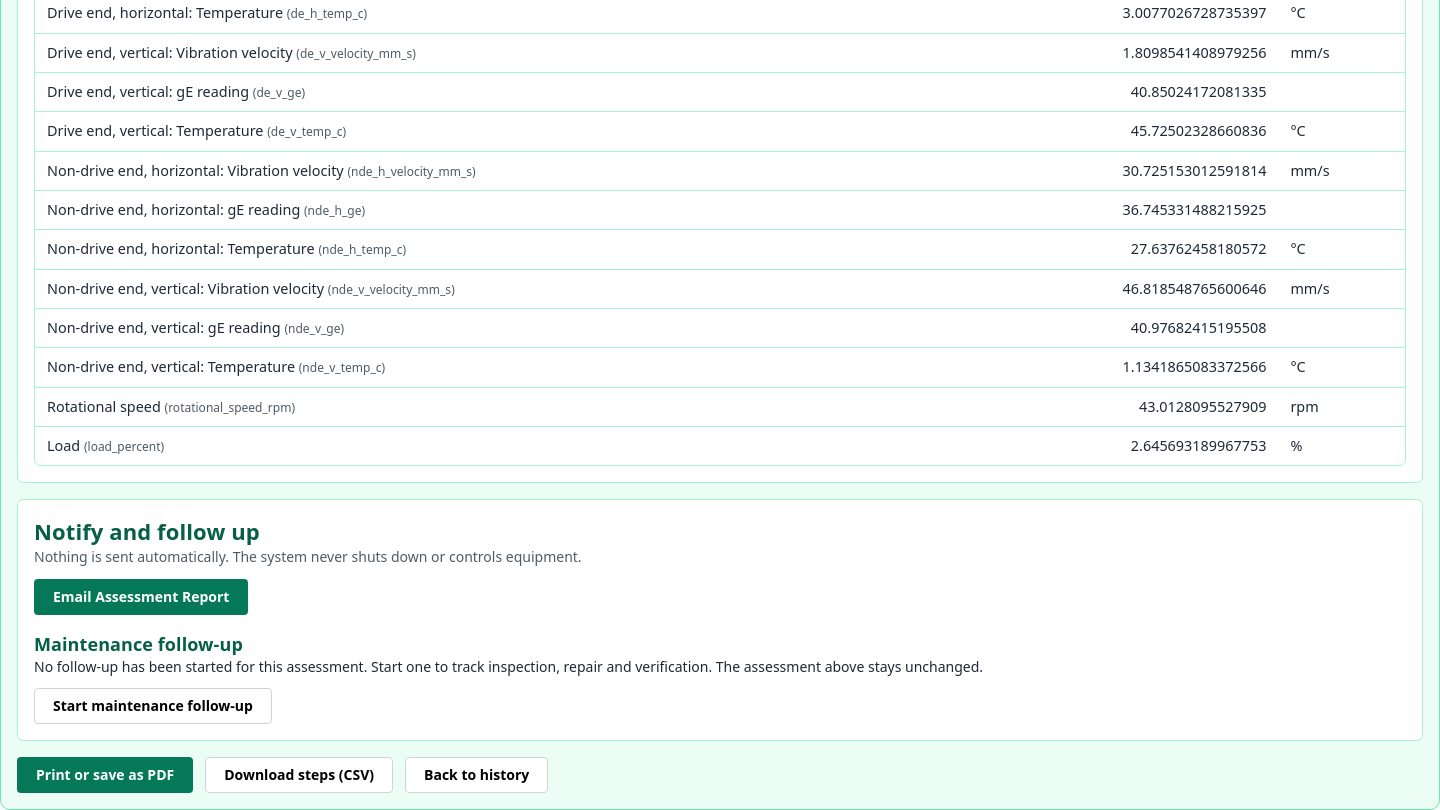
it: Email dialog › reports a failure as a failure and never as sent
(page scrolled)
Click the button "Email Assessment Report" at (141, 597), box [34,579,248,615]
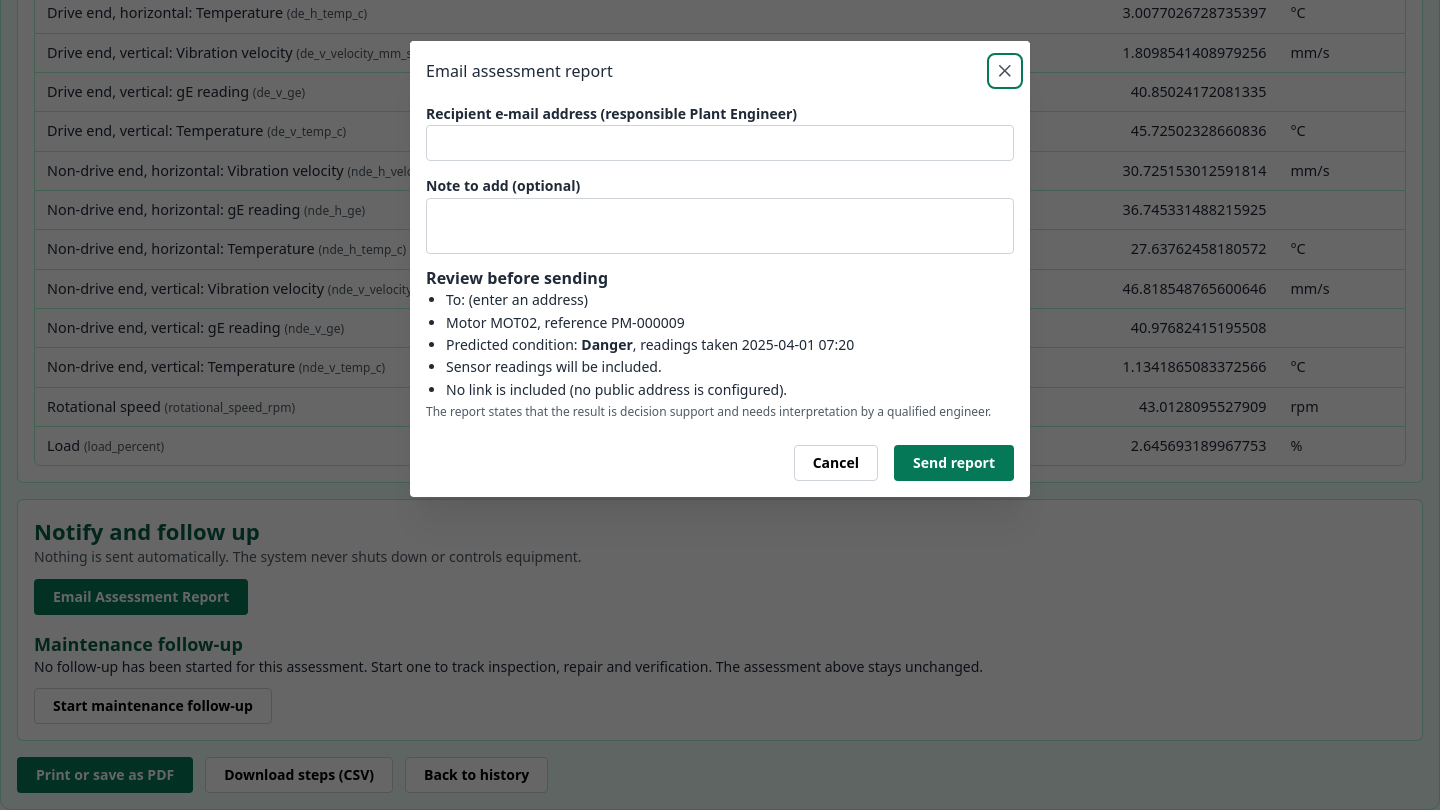
Type "eng@plant.test" into the field labelled "Recipient e-mail address (responsible Plant Engineer)" at (720, 143), box [426,125,1014,161]
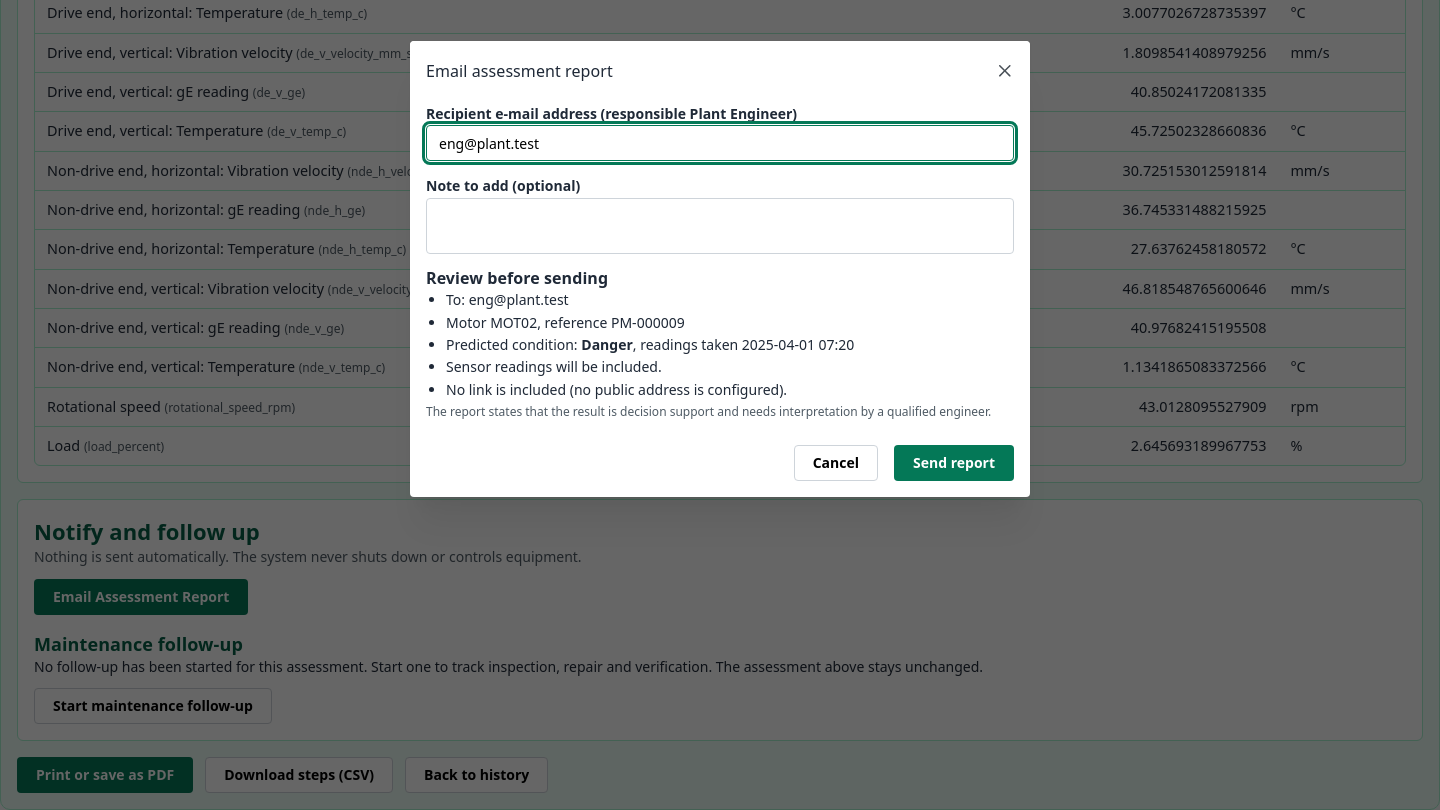
Click the button "Send report" at (954, 463), box [894,445,1014,481]
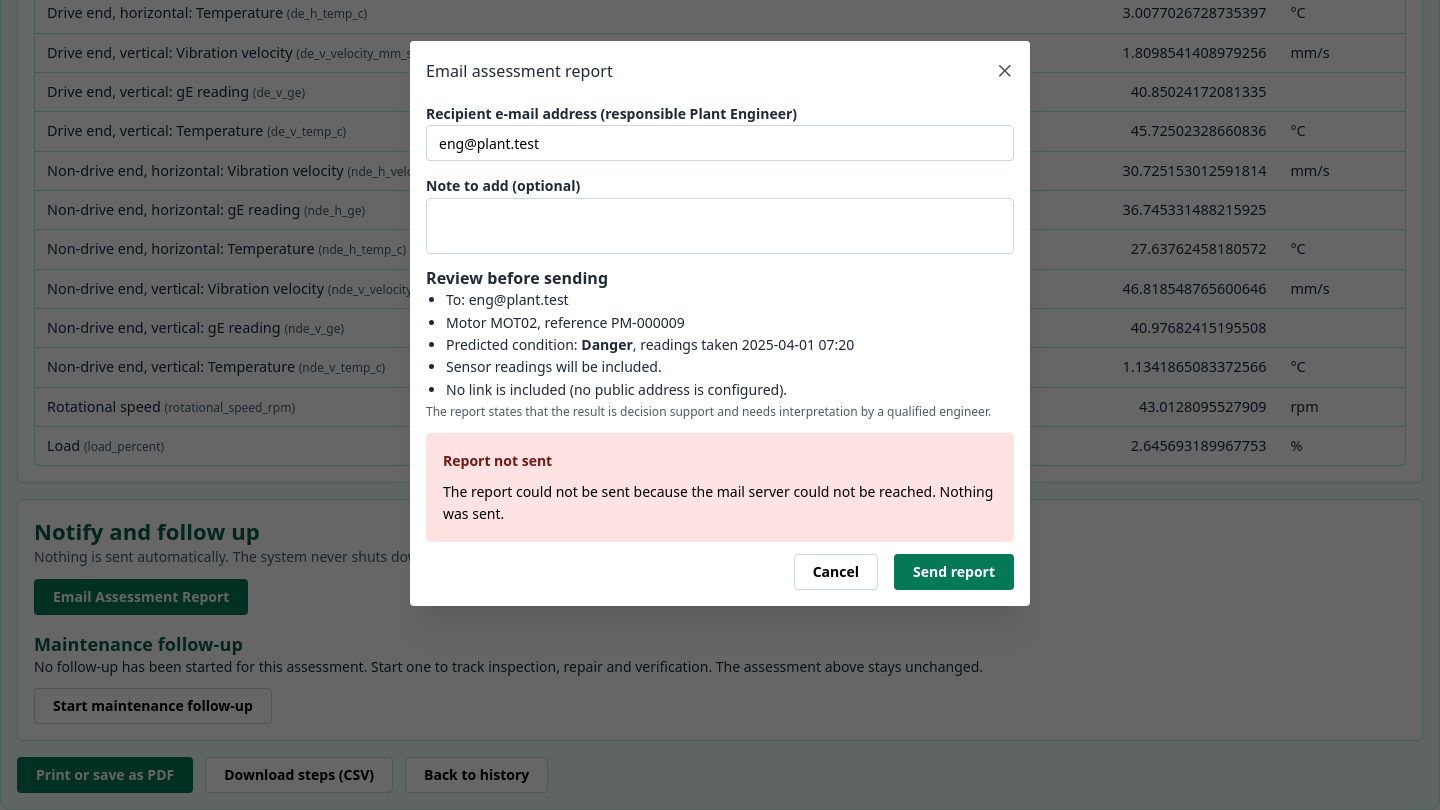
Check: the button "Send report" is enabled, box [894,554,1014,590]
Check: the text "Report not sent" is shown, box [443,450,552,472]
Check: the text "Nothing was sent" is shown, box [443,482,993,523]
